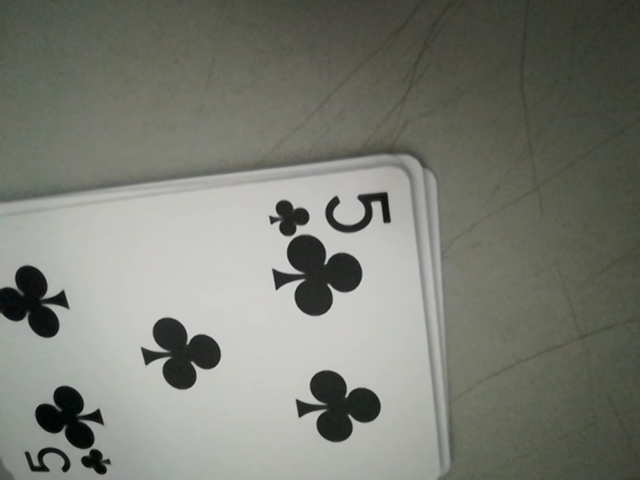mh 5: (267, 183, 398, 236), (18, 441, 112, 479)
